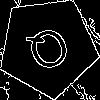Q: (23, 22, 78, 82)
